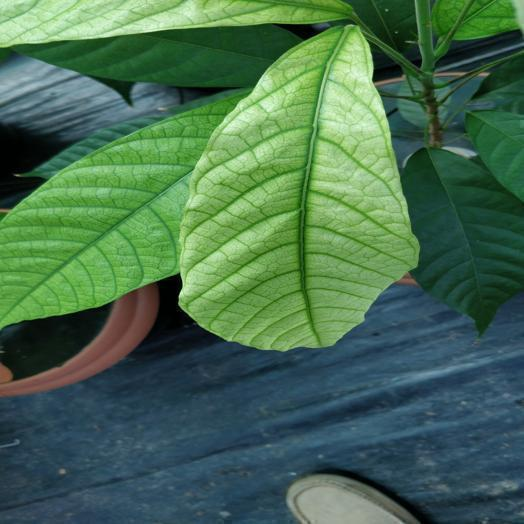Healthy Leaf: (403, 150, 523, 333), (466, 111, 523, 201)
Iron: (181, 27, 417, 348), (0, 95, 242, 327), (0, 0, 351, 46)
